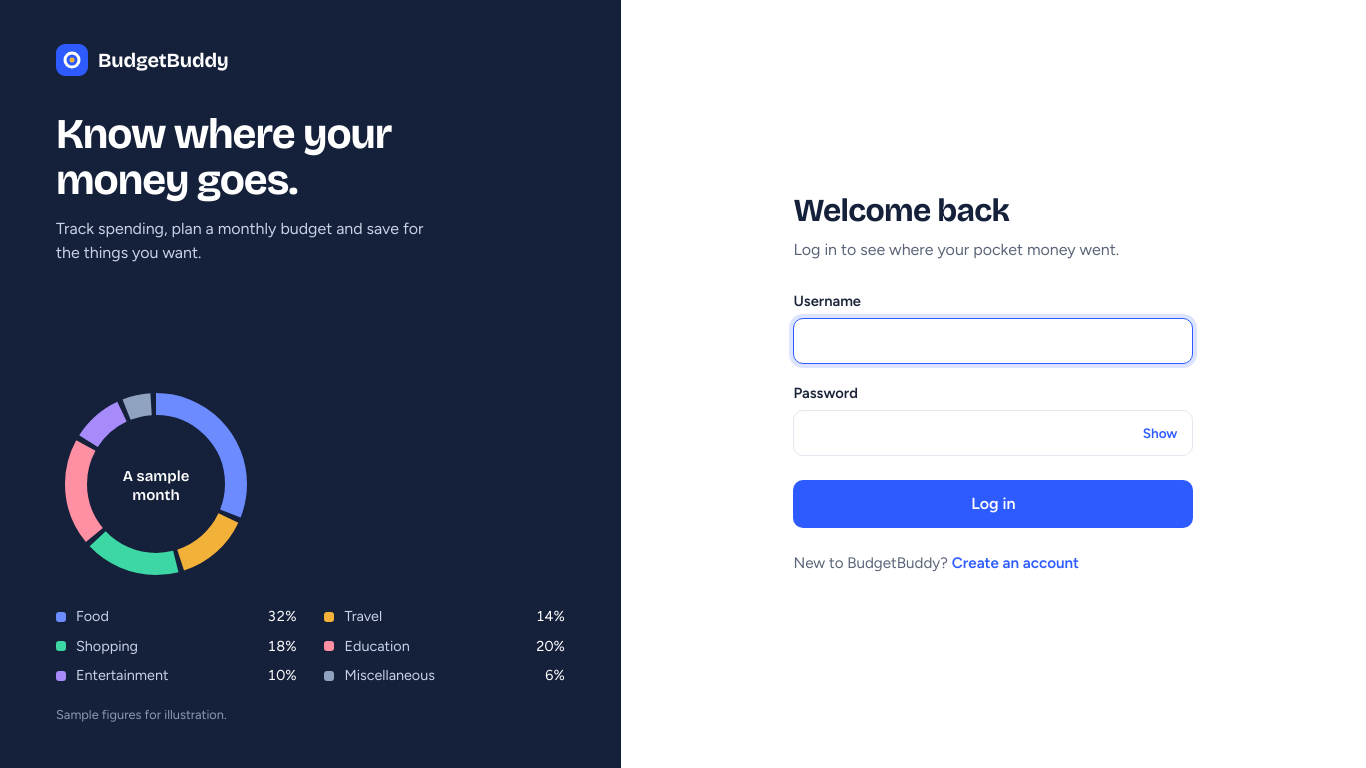
Test: Login page › shows a friendly message when the password is wrong
Type "anu" into the field labelled "Username" at x=993, y=341, box top-left (793, 318), bottom-right (1193, 364)
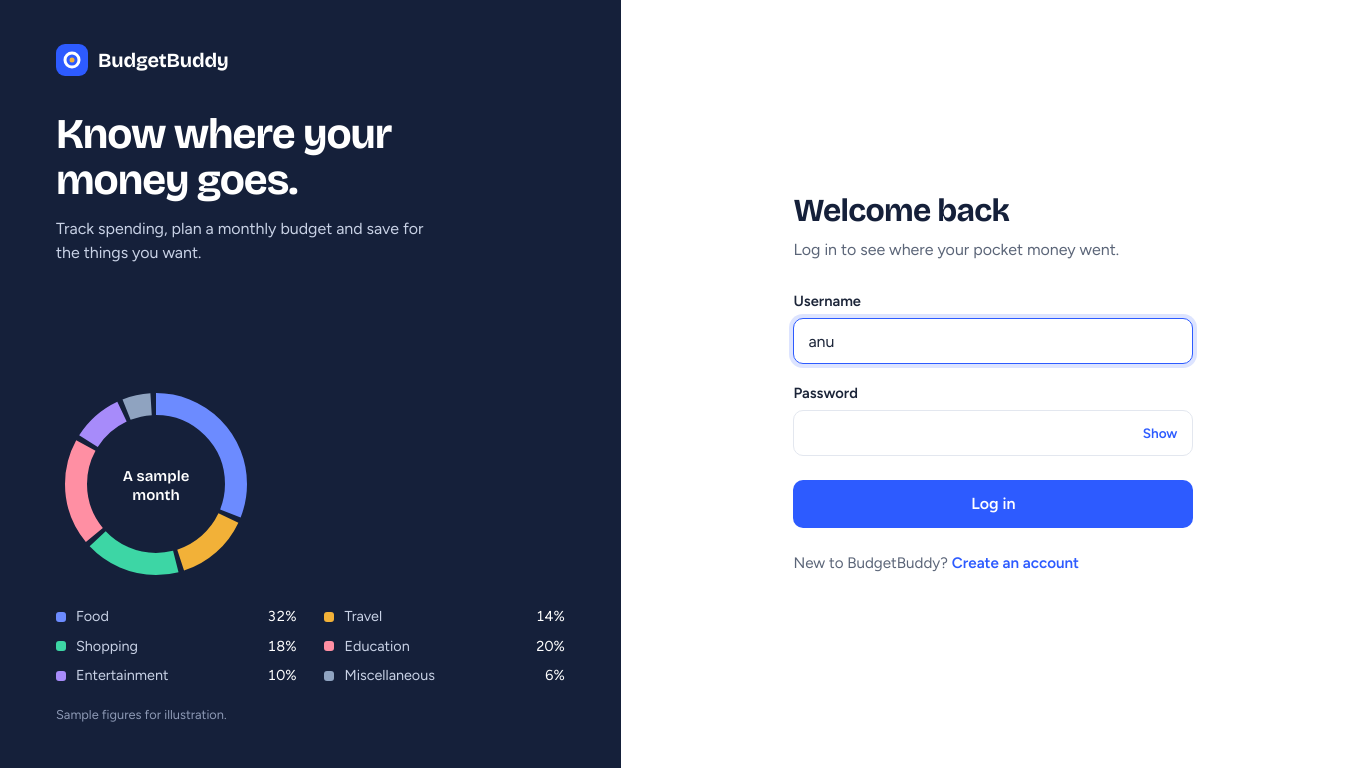
Type "wrong" into the password field labelled "Password" at x=993, y=433, box top-left (793, 410), bottom-right (1193, 456)
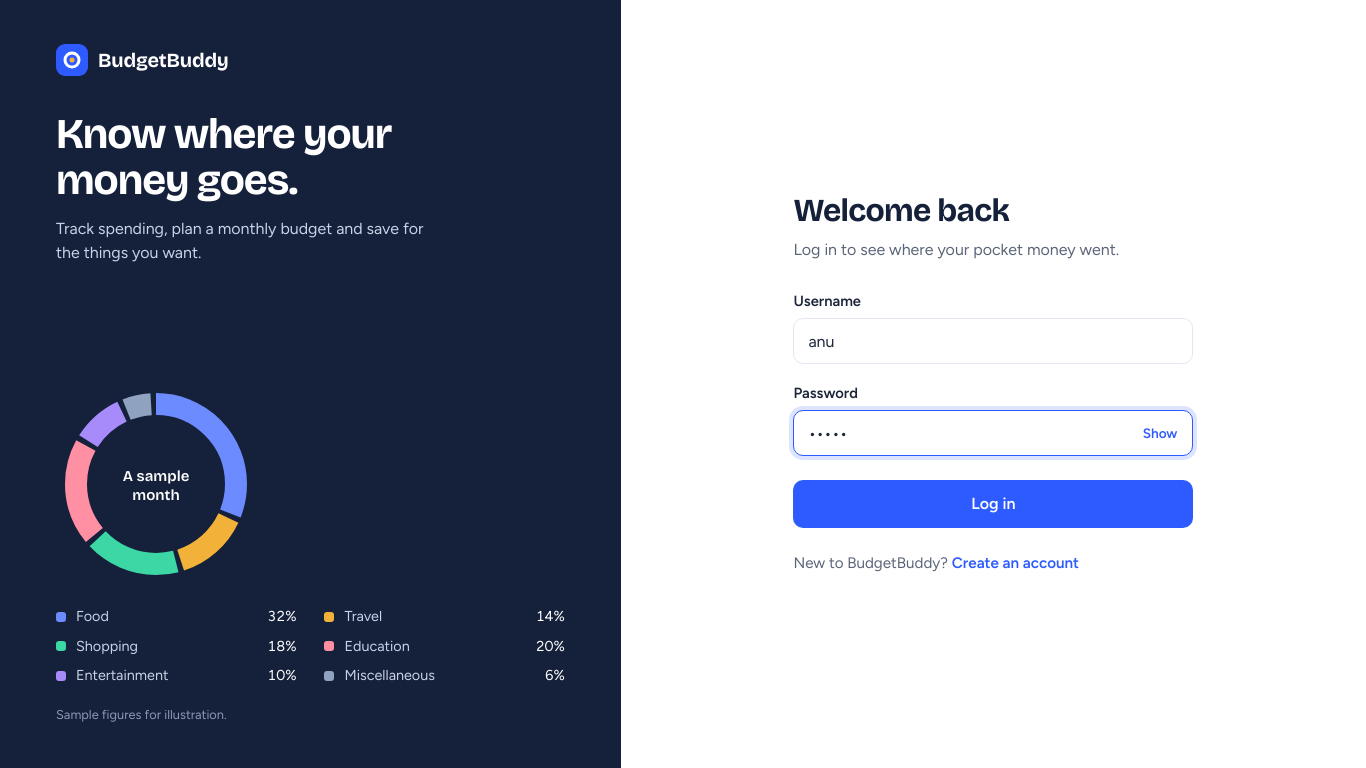
Click the button "Log in" at x=993, y=504, box top-left (793, 480), bottom-right (1193, 528)
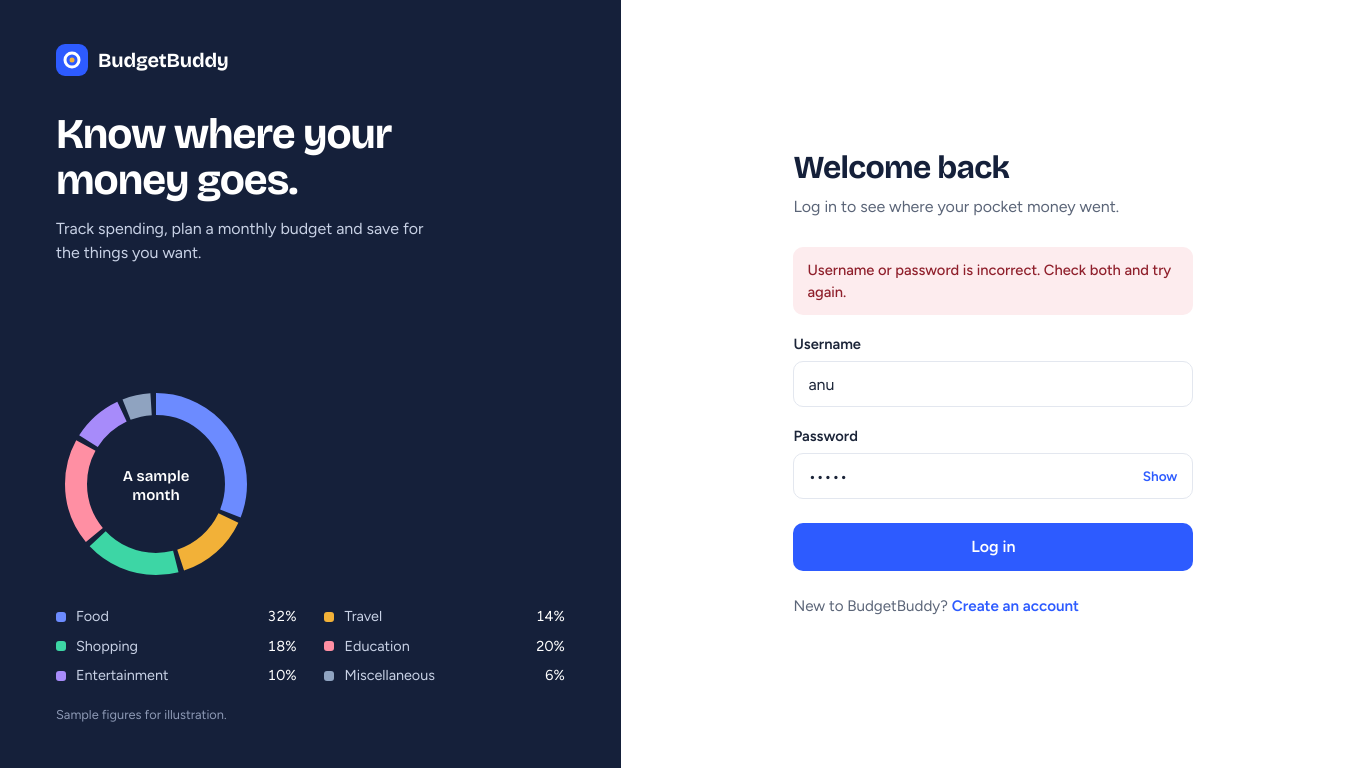
Expected: the text "Username or password is incorrect. Check both and try again." is shown, top-left (793, 247), bottom-right (1193, 315)
